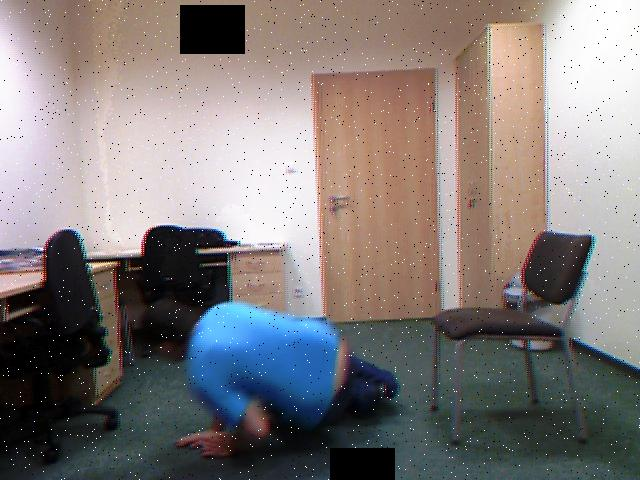fall: (131, 287, 409, 460)
